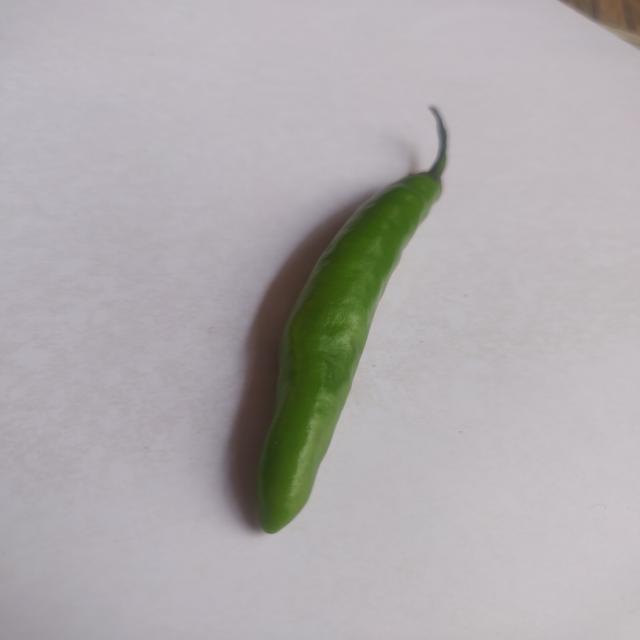Green Chilly: (226, 96, 468, 544)
